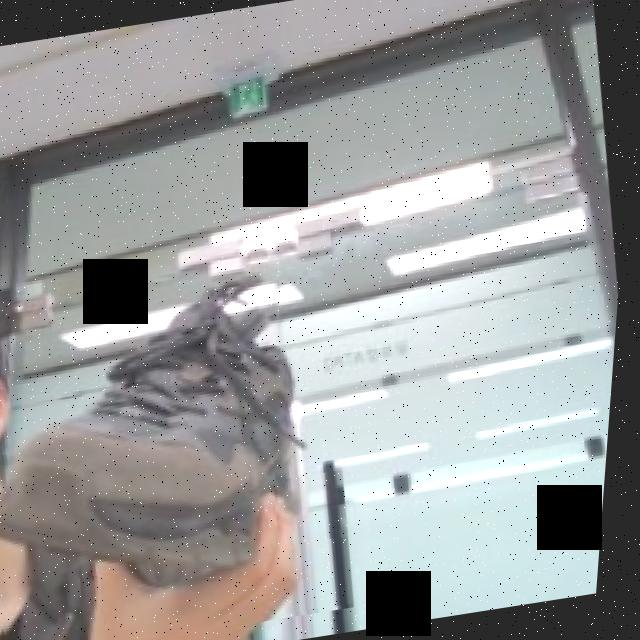shoe: (0, 235, 384, 640)
